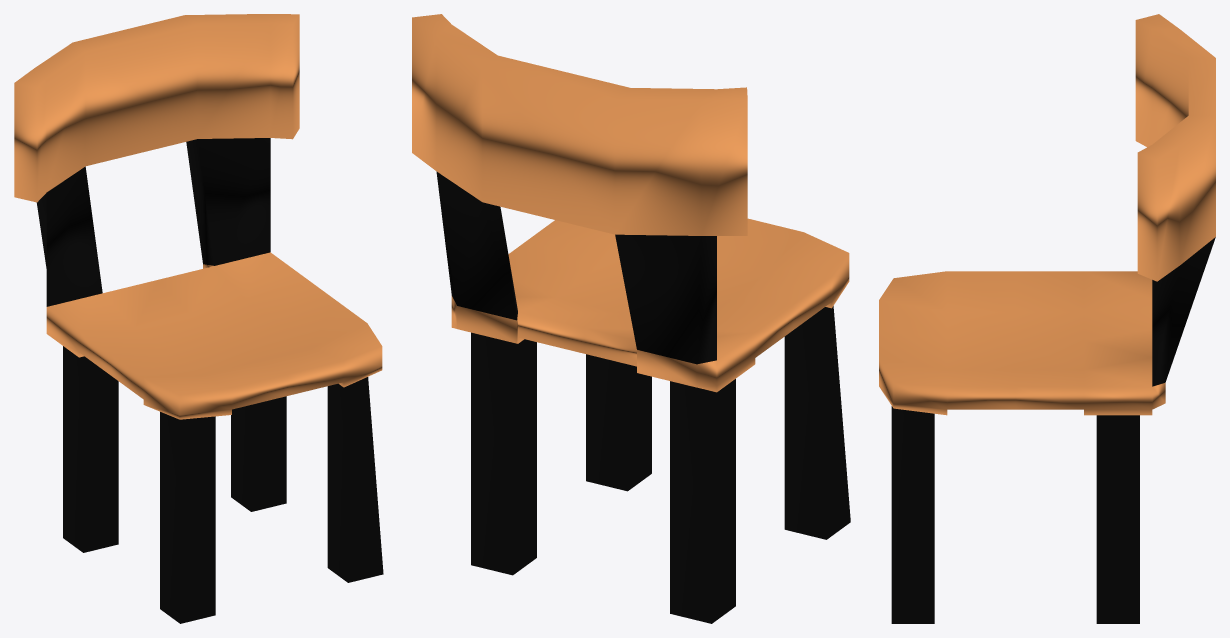
File: chair.fbx
3 views of the same model, side by side, from view 1: azimuth 30°, elevation 25°; view 2: azimuth 150°, elevation 25°; view 3: azimuth 270°, elevation 25° (orthographic). The views are drawn at different scales.
Visible parts, largest first — view 1: Cube.001; view 2: Cube.001; view 3: Cube.001.
Boxes of the visible parts, left/top/right/bottom form: Cube.001: left=14, top=14, right=383, bottom=623; Cube.001: left=412, top=14, right=850, bottom=623; Cube.001: left=879, top=14, right=1215, bottom=623.
Bounding box in the file's own units: 216 × 333 × 210.
